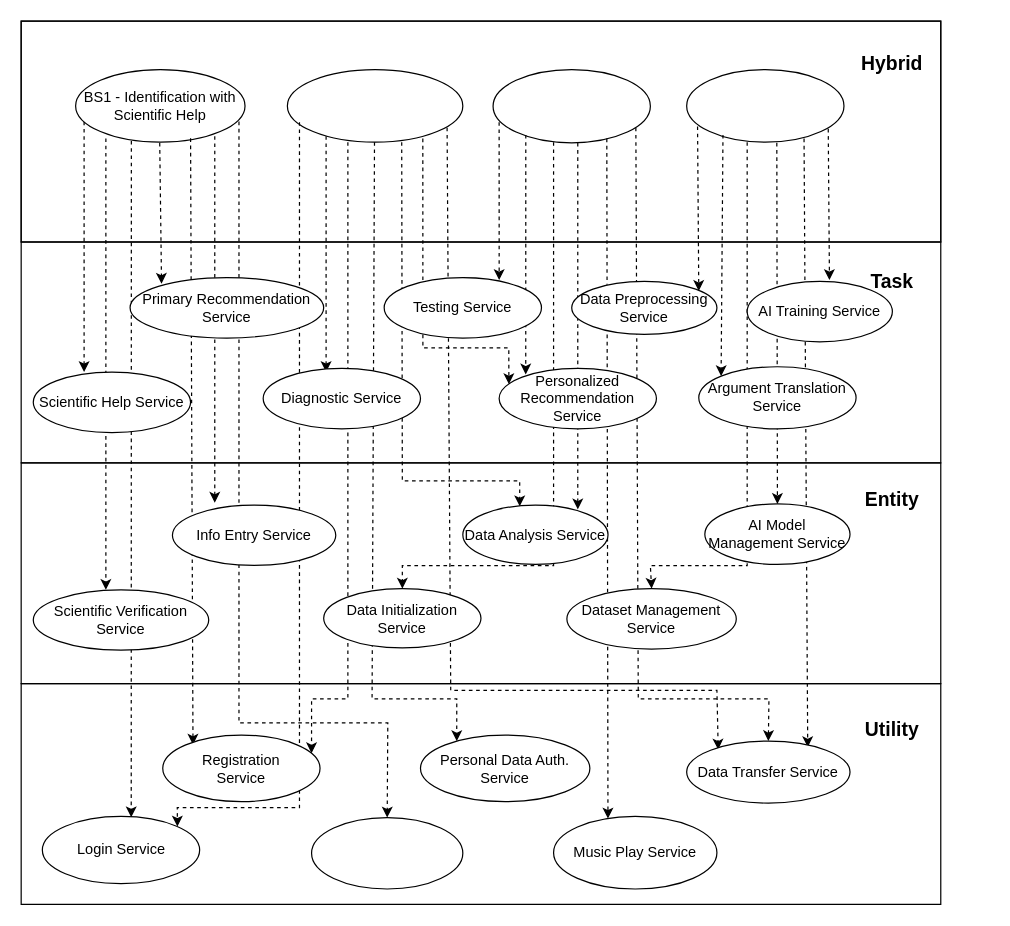
Image size: 1010x926. Some labels were removed from this diagram. The centre of each missing label's shape, as x and y in pixels:
"BS2 - Diagnosis and Recommendations" belongs at [374,105].
"BS3 - Treatment" belongs at [571,105].
"BS4 - AI Study Assistance" belongs at [764,105].
"Identity Service" belongs at [386,852].
